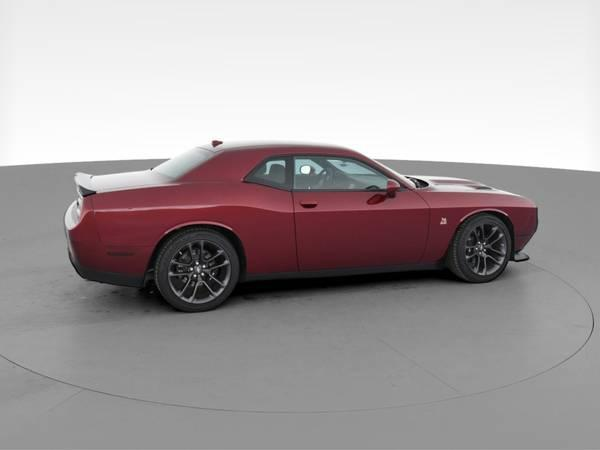Front_Fender: (414, 190, 537, 269)
Front_Right_Door: (292, 187, 428, 275)
Front_Right_Window: (292, 152, 412, 190)
Hood: (412, 176, 522, 195)
Rear_Bumper: (64, 198, 155, 286)
Rear_Fender: (89, 155, 298, 280)
Rear_Windshield: (153, 148, 217, 181)
Roof: (178, 138, 412, 187)
Tailgate: (69, 169, 176, 220)
Wheel: (155, 229, 241, 314), (451, 215, 514, 283)
